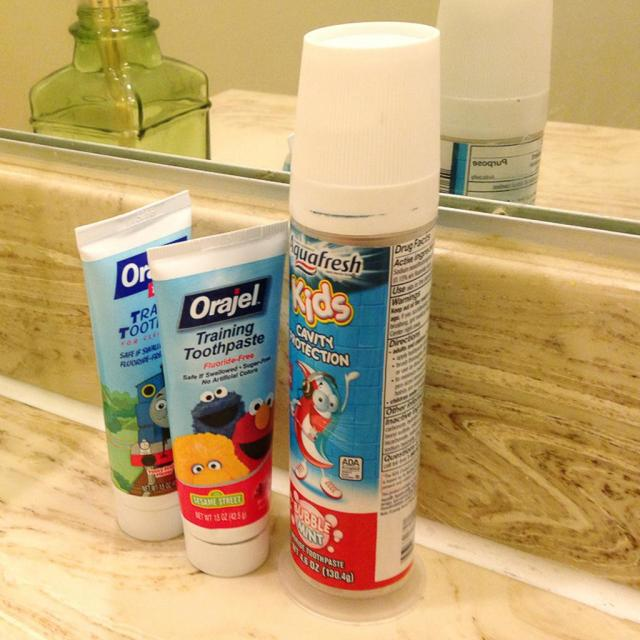Toothpaste: (272, 14, 446, 622), (140, 216, 280, 578), (65, 185, 184, 547)
